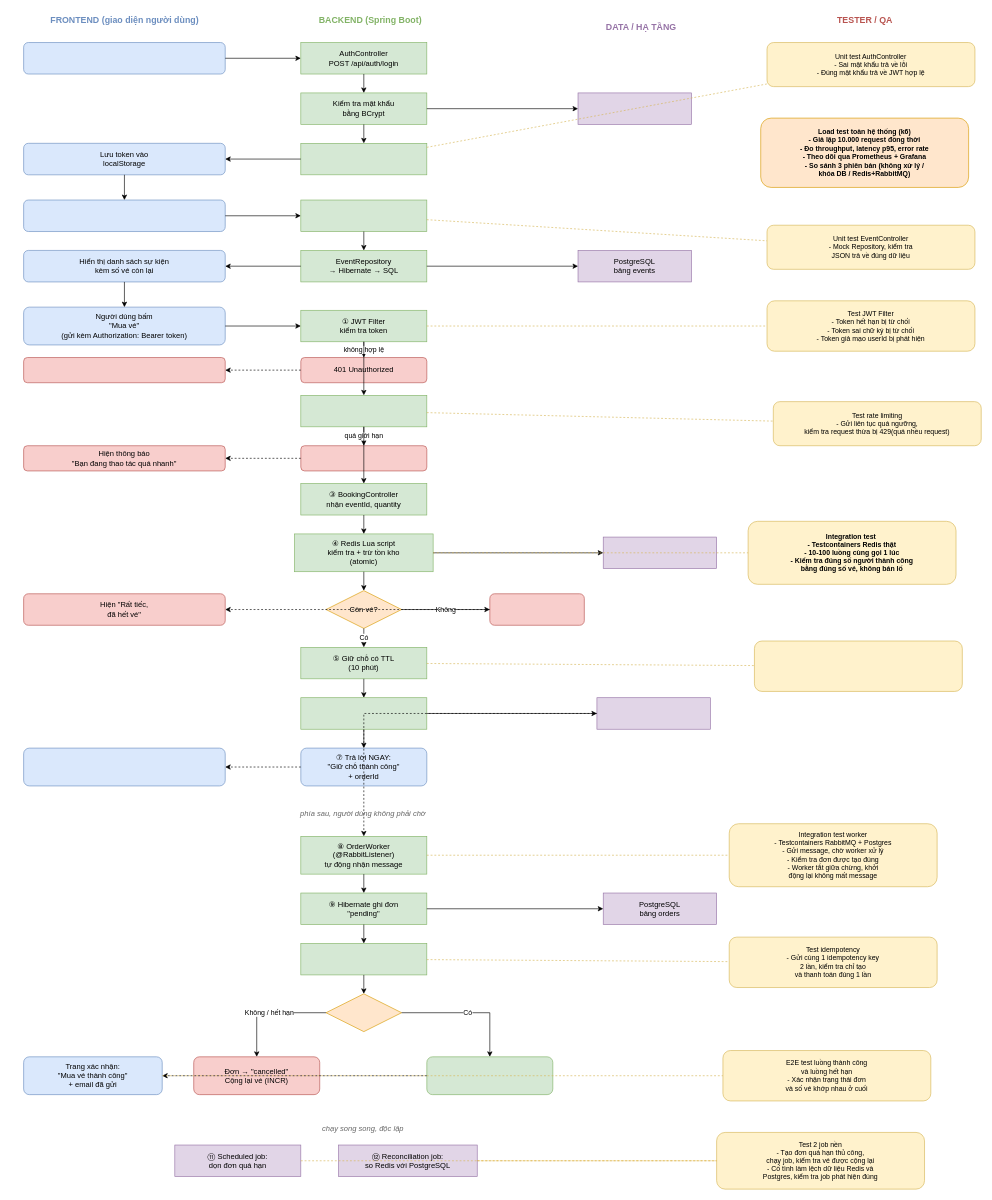
The diagram is 992 pixels wide and 1200 high, and some of its shapes have lost their labels. The centre of each missing label's shape, as x and y in pixels:
429 Too Many Requests: pixel 363 458
EventController GET /api/events: pixel 363 215
Hiện thông báo "Vui lòng đăng nhập lại": pixel 124 370
PostgreSQL bảng users: pixel 634 108
RabbitMQ order-queue: pixel 653 713
Redis ticket:eventId:remaining: pixel 660 552
Test TTL - Rút ngắn TTL còn 2-3 giây trong test, kiểm tra key tự xóa đúng hạn: pixel 858 665
Thành công?: pixel 363 1012
Trang danh sách sự kiện: pixel 124 215
Trang giữ chỗ: hiện đồng hồ đếm ngược 10 phút + nút "Thanh toán": pixel 124 766
Trang đăng nhập Nhập email, mật khẩu: pixel 124 58
Trả 409 "Hết vé": pixel 536 609
Tạo JWT (userId, role, hạn dùng): pixel 363 159
Đơn → "paid" Xóa key giữ chỗ Gửi email: pixel 489 1075
② Rate limiting (Redis): pixel 363 411
⑥ Gửi message vào RabbitMQ (order-queue): pixel 363 713
⑩ Thanh toán giả lập (kiểm tra idempotency): pixel 363 959
